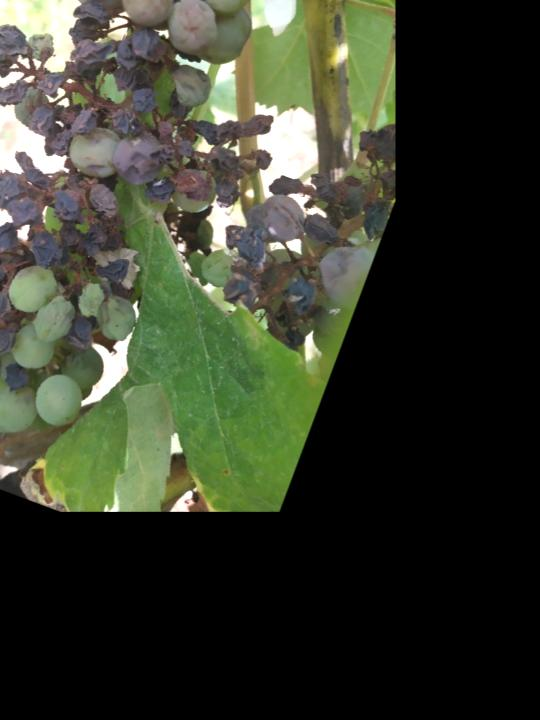grape: (0, 0, 362, 491)
